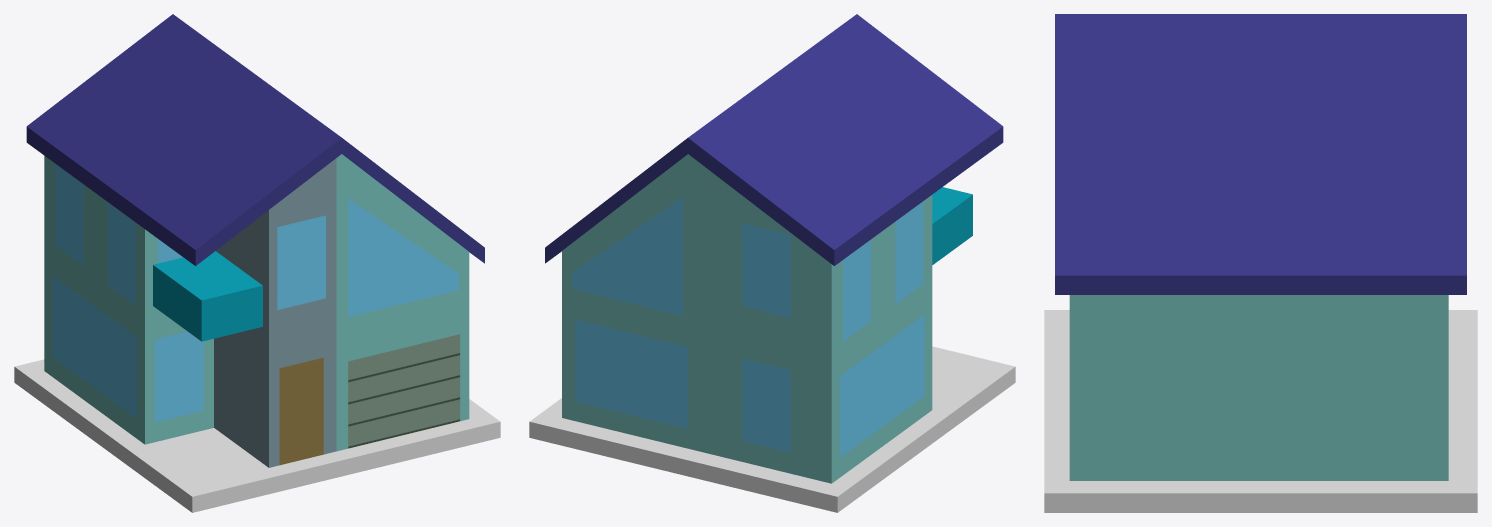
File: Living_House_3.FBX
3 views of the same model, side by side, from view 1: azimuth 30°, elevation 25°; view 2: azimuth 150°, elevation 25°; view 3: azimuth 270°, elevation 25° (orthographic). The views are drawn at different scales.
Visible parts, largest first — view 1: Box004, Box001; view 2: Box004, Box001; view 3: Box004, Box001.
Part boxes in pixels (x1=…): Box004: x1=26, y1=14, x2=484, y2=467; Box001: x1=14, y1=359, x2=500, y2=512; Box004: x1=545, y1=14, x2=1003, y2=483; Box001: x1=529, y1=346, x2=1015, y2=512; Box004: x1=1055, y1=14, x2=1466, y2=480; Box001: x1=1044, y1=310, x2=1477, y2=512.
Bounding box in the file's own units: 1 × 1.04 × 1.
Materials: 3 (3 with a texture image).
